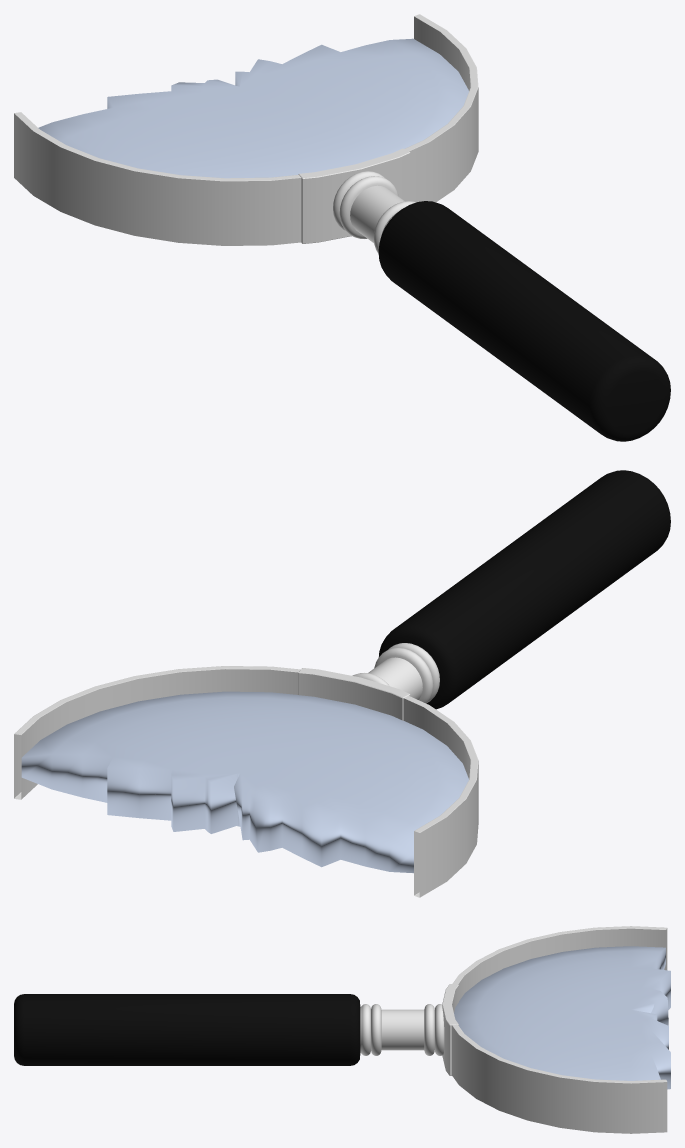
Rendered from BrokenMG.fbx.
The picture shows the model from 3 angles, top to bottom: view 1: azimuth 30°, elevation 25°; view 2: azimuth 150°, elevation 25°; view 3: azimuth 270°, elevation 25°; orthographic projection. The views are drawn at different scales.
Parts seen in each view (by area): view 1: Cylinder.001, Cylinder, Cylinder.002; view 2: Cylinder.001, Cylinder, Cylinder.002; view 3: Cylinder.001, Cylinder, Cylinder.002.
Part boxes in pixels (bbox=[...]): Cylinder.001: bbox=[14, 14, 478, 245]; Cylinder: bbox=[333, 171, 670, 441]; Cylinder.002: bbox=[298, 148, 410, 243]; Cylinder.001: bbox=[14, 666, 478, 897]; Cylinder: bbox=[352, 470, 670, 709]; Cylinder.002: bbox=[298, 668, 410, 720]; Cylinder.001: bbox=[452, 926, 670, 1133]; Cylinder: bbox=[14, 994, 444, 1065]; Cylinder.002: bbox=[442, 984, 458, 1075].
Size of the model in its own units: 177 by 34.15 by 312.
